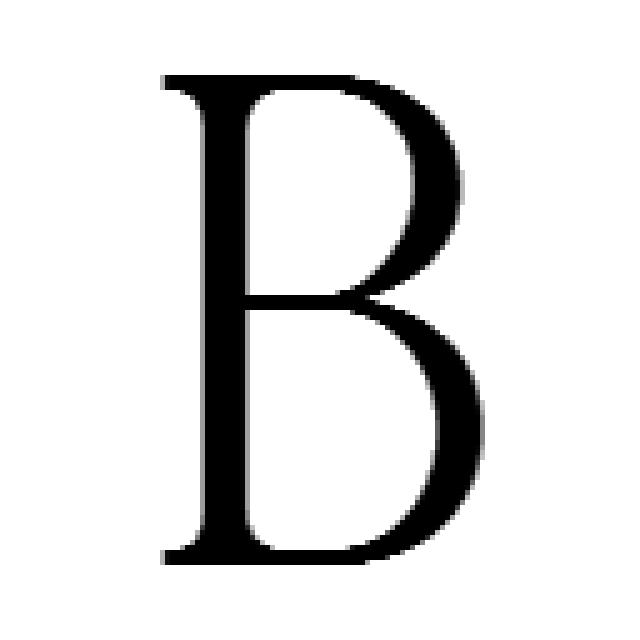B: (160, 75, 485, 570)
